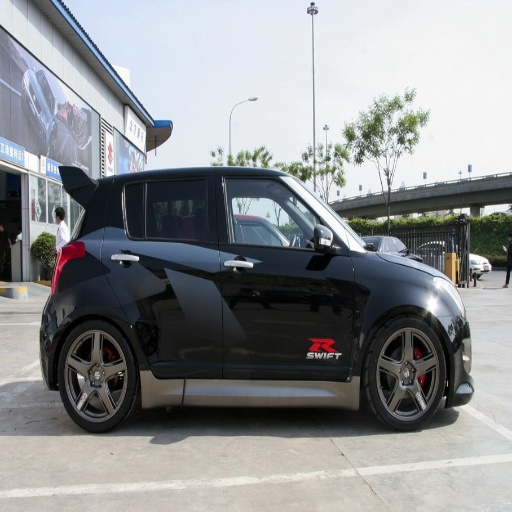back_right_door: (102, 168, 222, 392)
